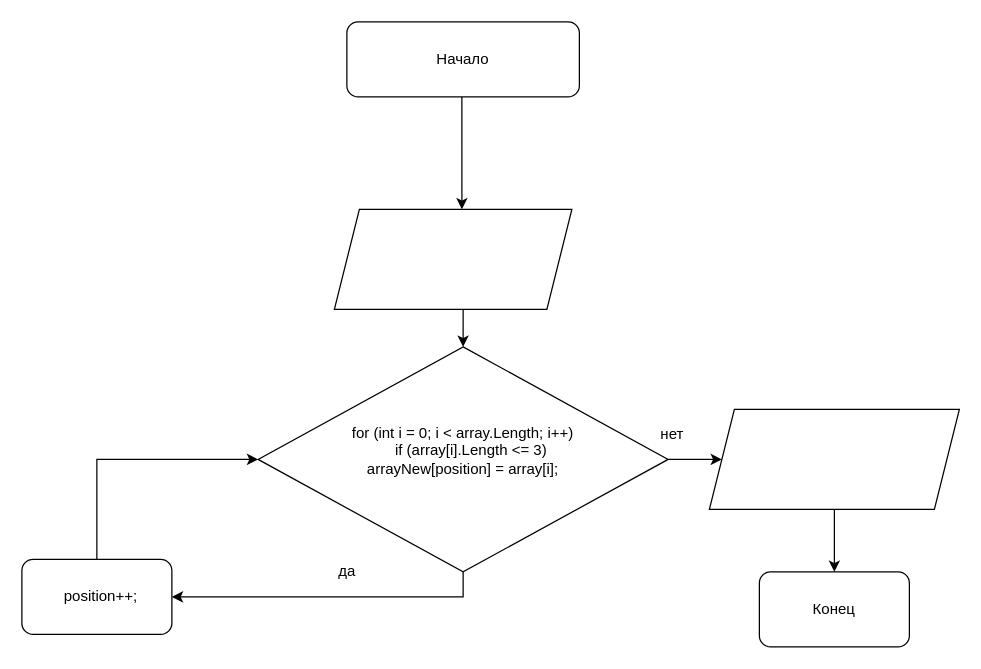
The diagram is 981 pixels wide and 669 high, and some of its shapes have lost their labels. Here are the shapes that lost their labels. From the top down, the box of each, then its label:
(333, 208, 572, 309): string[] array string[] arrayNew int position = 0
(708, 408, 959, 509): newArray(array, arrayNew); Console.WriteLine(); PrintArray(arrayNew);
